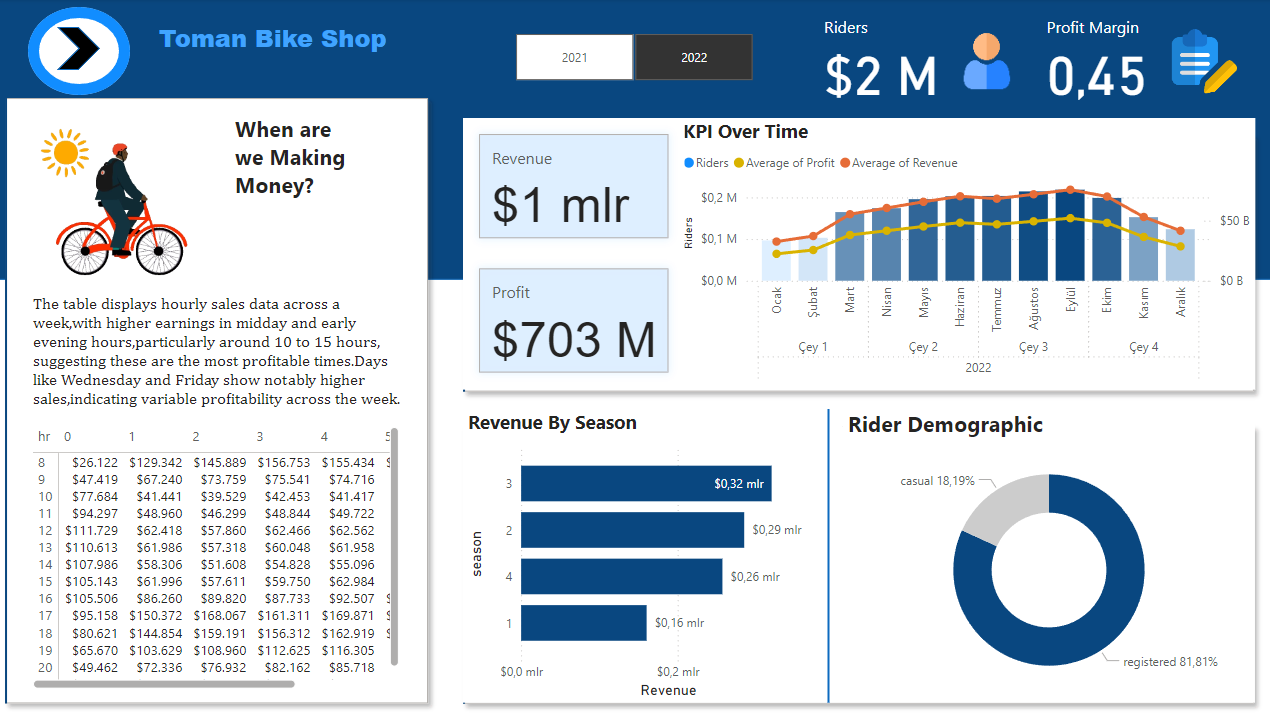

Layout of this report page (visuals, bound fields, positions):
{"tool":"powerbi","page":{"name":"1. sayfa","canvas":[1280,720],"ordinal":0},"visuals":[{"type":"shape","box":[9.7,0,1270.3,280.1],"z":0},{"type":"cardVisual","fields":{"Data":["Min(Sorgu1.riders)"]},"box":[0,81.8,456.9,638.5],"z":1000},{"type":"cardVisual","fields":{"Data":["Min(Sorgu1.riders)"]},"box":[456.9,118.7,823.1,290.3],"z":2000},{"type":"cardVisual","fields":{"Data":["Min(Sorgu1.riders)"]},"box":[28.9,109.7,198.5,172.6],"z":4000},{"type":"pivotTable","fields":{"Values":["Avg(Sorgu1.revenue)"],"Columns":["Sorgu1.weekday"],"Rows":["Sorgu1.hr"]},"box":[39.7,421.8,375.4,270.9],"z":5000},{"type":"textbox","box":[241.4,109.7,182.6,133.7],"z":6000},{"type":"textbox","box":[39.9,289.3,384.1,132.7],"z":7000},{"type":"lineClusteredColumnComboChart","title":"KPI Over Time","fields":{"Category":["Sorgu1.dteday.Varyasyon.Tarih Hiyerarşisi.Yıl","Sorgu1.dteday.Varyasyon.Tarih Hiyerarşisi.Çeyrek","Sorgu1.dteday.Varyasyon.Tarih Hiyerarşisi.Ay","Sorgu1.dteday.Varyasyon.Tarih Hiyerarşisi.Gün"],"Y":["Sum(Sorgu1.riders)"],"Y2":["Avg(Sorgu1.profit)","Avg(Sorgu1.revenue)"]},"box":[688.4,118.7,575.7,271.4],"z":8000},{"type":"cardVisual","fields":{"Data":["Min(Sorgu1.riders)"]},"box":[456.9,409,823.1,311.3],"z":8001},{"type":"donutChart","title":"Rider Demographic","fields":{"Category":["Sorgu1.rider_type"],"Y":["Sum(Sorgu1.riders)"]},"box":[853,409,411,293.3],"z":8002},{"type":"clusteredBarChart","title":"Revenue By Season","fields":{"Category":["Sorgu1.season"],"Y":["Sum(Sorgu1.revenue)"]},"box":[473.9,409,379.1,293.3],"z":8003},{"type":"shape","box":[688.4,409,300.3,293.3],"z":8004},{"type":"cardVisual","title":"KPI Over Time","fields":{"Data":["Sum(Sorgu1.revenue)","Sum(Sorgu1.profit)"]},"box":[473.9,118.7,221.5,271.4],"z":8005},{"type":"cardVisual","fields":{"Data":["Sum(Sorgu1.riders)","Sorgu1.Profit Margin"]},"box":[817.1,0,447,109.7],"z":8006},{"type":"shape","box":[39.9,8,101.8,87.8],"z":8007},{"type":"shape","box":[68.8,27.9,42.9,42.9],"z":8008},{"type":"textbox","box":[165.6,17,249.4,64.8],"z":8009},{"type":"slicer","fields":{"Values":["Sorgu1.years"]},"box":[500.8,27.9,286.3,59.9],"z":8010}]}

Visuals, with their boxes in screenshot pixels (x1, y1, x2, y2), scaled from the page's 1280x720 canvas onto the 1270x717 screenshot:
shape: {"x1": 10, "y1": 0, "x2": 1269, "y2": 279}
cardVisual - Min(Sorgu1.riders): {"x1": 0, "y1": 81, "x2": 453, "y2": 716}
cardVisual - Min(Sorgu1.riders): {"x1": 453, "y1": 118, "x2": 1269, "y2": 407}
cardVisual - Min(Sorgu1.riders): {"x1": 29, "y1": 109, "x2": 226, "y2": 281}
pivotTable - Avg(Sorgu1.revenue) x Sorgu1.weekday: {"x1": 39, "y1": 420, "x2": 412, "y2": 690}
textbox: {"x1": 240, "y1": 109, "x2": 421, "y2": 242}
textbox: {"x1": 40, "y1": 288, "x2": 421, "y2": 420}
"KPI Over Time" lineClusteredColumnComboChart: {"x1": 683, "y1": 118, "x2": 1254, "y2": 388}
cardVisual - Min(Sorgu1.riders): {"x1": 453, "y1": 407, "x2": 1269, "y2": 716}
"Rider Demographic" donutChart: {"x1": 846, "y1": 407, "x2": 1254, "y2": 699}
"Revenue By Season" clusteredBarChart: {"x1": 470, "y1": 407, "x2": 846, "y2": 699}
shape: {"x1": 683, "y1": 407, "x2": 981, "y2": 699}
"KPI Over Time" cardVisual: {"x1": 470, "y1": 118, "x2": 690, "y2": 388}
cardVisual - Sum(Sorgu1.riders) x Sorgu1.Profit Margin: {"x1": 811, "y1": 0, "x2": 1254, "y2": 109}
shape: {"x1": 40, "y1": 8, "x2": 141, "y2": 95}
shape: {"x1": 68, "y1": 28, "x2": 111, "y2": 71}
textbox: {"x1": 164, "y1": 17, "x2": 412, "y2": 81}
slicer - Sorgu1.years: {"x1": 497, "y1": 28, "x2": 781, "y2": 87}
